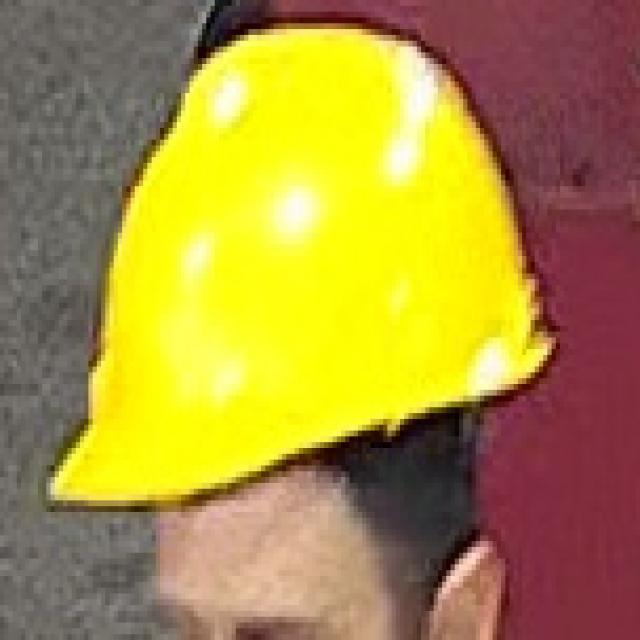yellow helmet: (48, 25, 562, 529)
